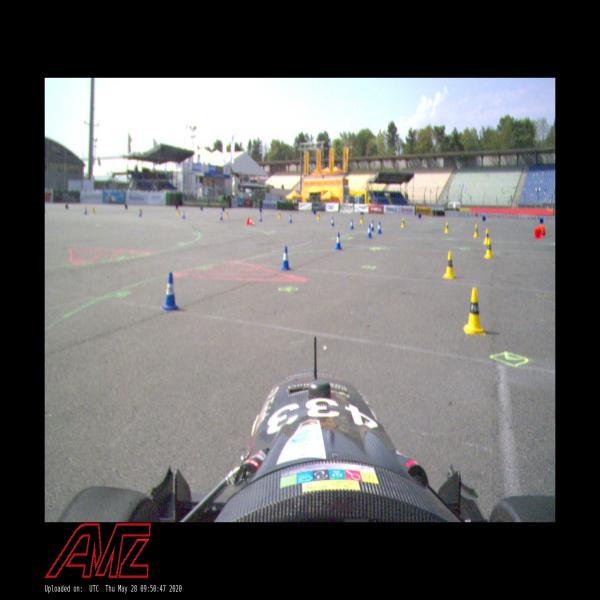blue_cone: (161, 272, 180, 310), (281, 246, 291, 271), (335, 232, 342, 250), (367, 224, 372, 239), (377, 220, 382, 234), (350, 219, 354, 230), (371, 220, 374, 232), (331, 216, 334, 226), (539, 218, 544, 224), (289, 214, 292, 223), (182, 210, 185, 219), (482, 216, 486, 222), (259, 214, 262, 222), (418, 213, 421, 219), (220, 212, 222, 220), (314, 210, 316, 215)
orange_cone: (534, 228, 543, 239), (246, 216, 255, 226), (538, 225, 545, 236)
yellow_cone: (464, 288, 484, 334), (443, 251, 456, 279), (484, 238, 493, 258), (483, 228, 490, 244), (473, 224, 480, 238), (445, 221, 450, 233), (402, 217, 406, 228), (225, 210, 229, 218), (361, 214, 364, 224), (278, 210, 281, 219), (317, 212, 320, 220), (177, 208, 180, 215)
